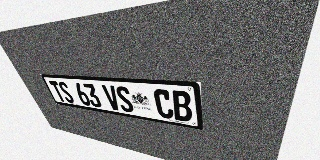3: (82, 83, 102, 108)
6: (72, 82, 92, 106)
B: (171, 90, 193, 122)
C: (153, 89, 174, 120)
S: (114, 86, 135, 113), (57, 81, 75, 104)
T: (48, 81, 67, 102)
V: (101, 85, 122, 111)
